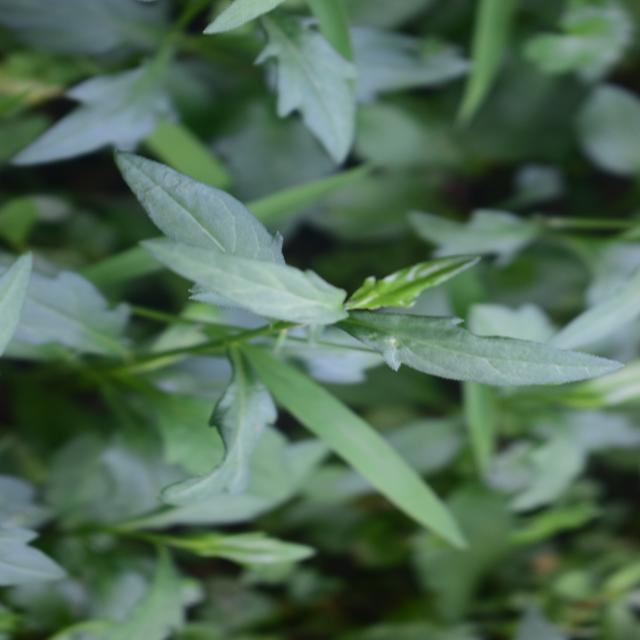Indian aster: (171, 67, 494, 527)
